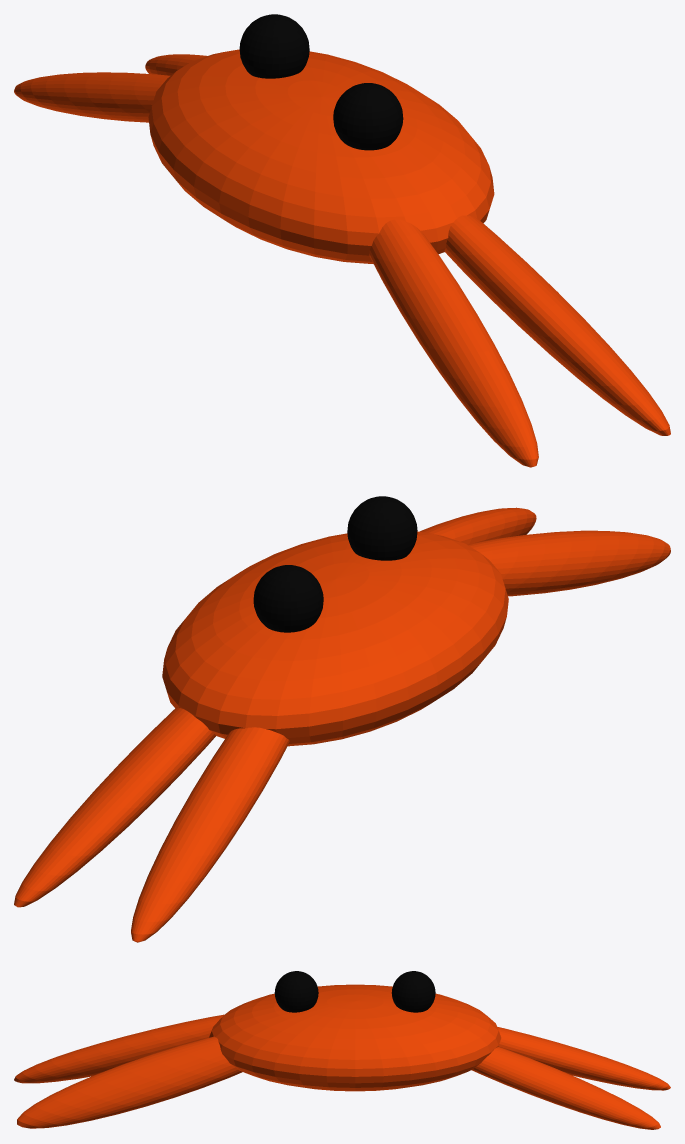
File: Crab.fbx
3 renders of one model, top to bottom at view 1: azimuth 30°, elevation 25°; view 2: azimuth 150°, elevation 25°; view 3: azimuth 270°, elevation 25°, orthographic. The views are drawn at different scales.
Visible parts, largest first — view 1: Sphere, Sphere.003, Sphere.001, Sphere.002, Sphere.005, Sphere.006, Sphere.004; view 2: Sphere, Sphere.002, Sphere.004, Sphere.003, Sphere.006, Sphere.005, Sphere.001; view 3: Sphere, Sphere.001, Sphere.004, Sphere.003, Sphere.002, Sphere.005, Sphere.006.
Boxes of the visible parts, <box> form: Sphere: <box>148,49,494,263</box>; Sphere.003: <box>369,219,538,467</box>; Sphere.001: <box>444,215,670,435</box>; Sphere.002: <box>14,72,170,122</box>; Sphere.005: <box>333,83,403,150</box>; Sphere.006: <box>239,14,309,78</box>; Sphere.004: <box>145,54,206,75</box>; Sphere: <box>162,531,508,746</box>; Sphere.002: <box>131,727,289,942</box>; Sphere.004: <box>14,707,215,907</box>; Sphere.003: <box>467,530,670,596</box>; Sphere.006: <box>253,565,323,632</box>; Sphere.005: <box>347,496,417,560</box>; Sphere.001: <box>420,507,536,544</box>; Sphere: <box>209,984,501,1091</box>; Sphere.001: <box>17,1036,242,1128</box>; Sphere.004: <box>471,1047,660,1129</box>; Sphere.003: <box>14,1014,224,1083</box>; Sphere.002: <box>497,1027,670,1090</box>; Sphere.005: <box>274,971,318,1012</box>; Sphere.006: <box>391,971,435,1012</box>.
Size of the model in its own units: 126 by 101 by 449.
